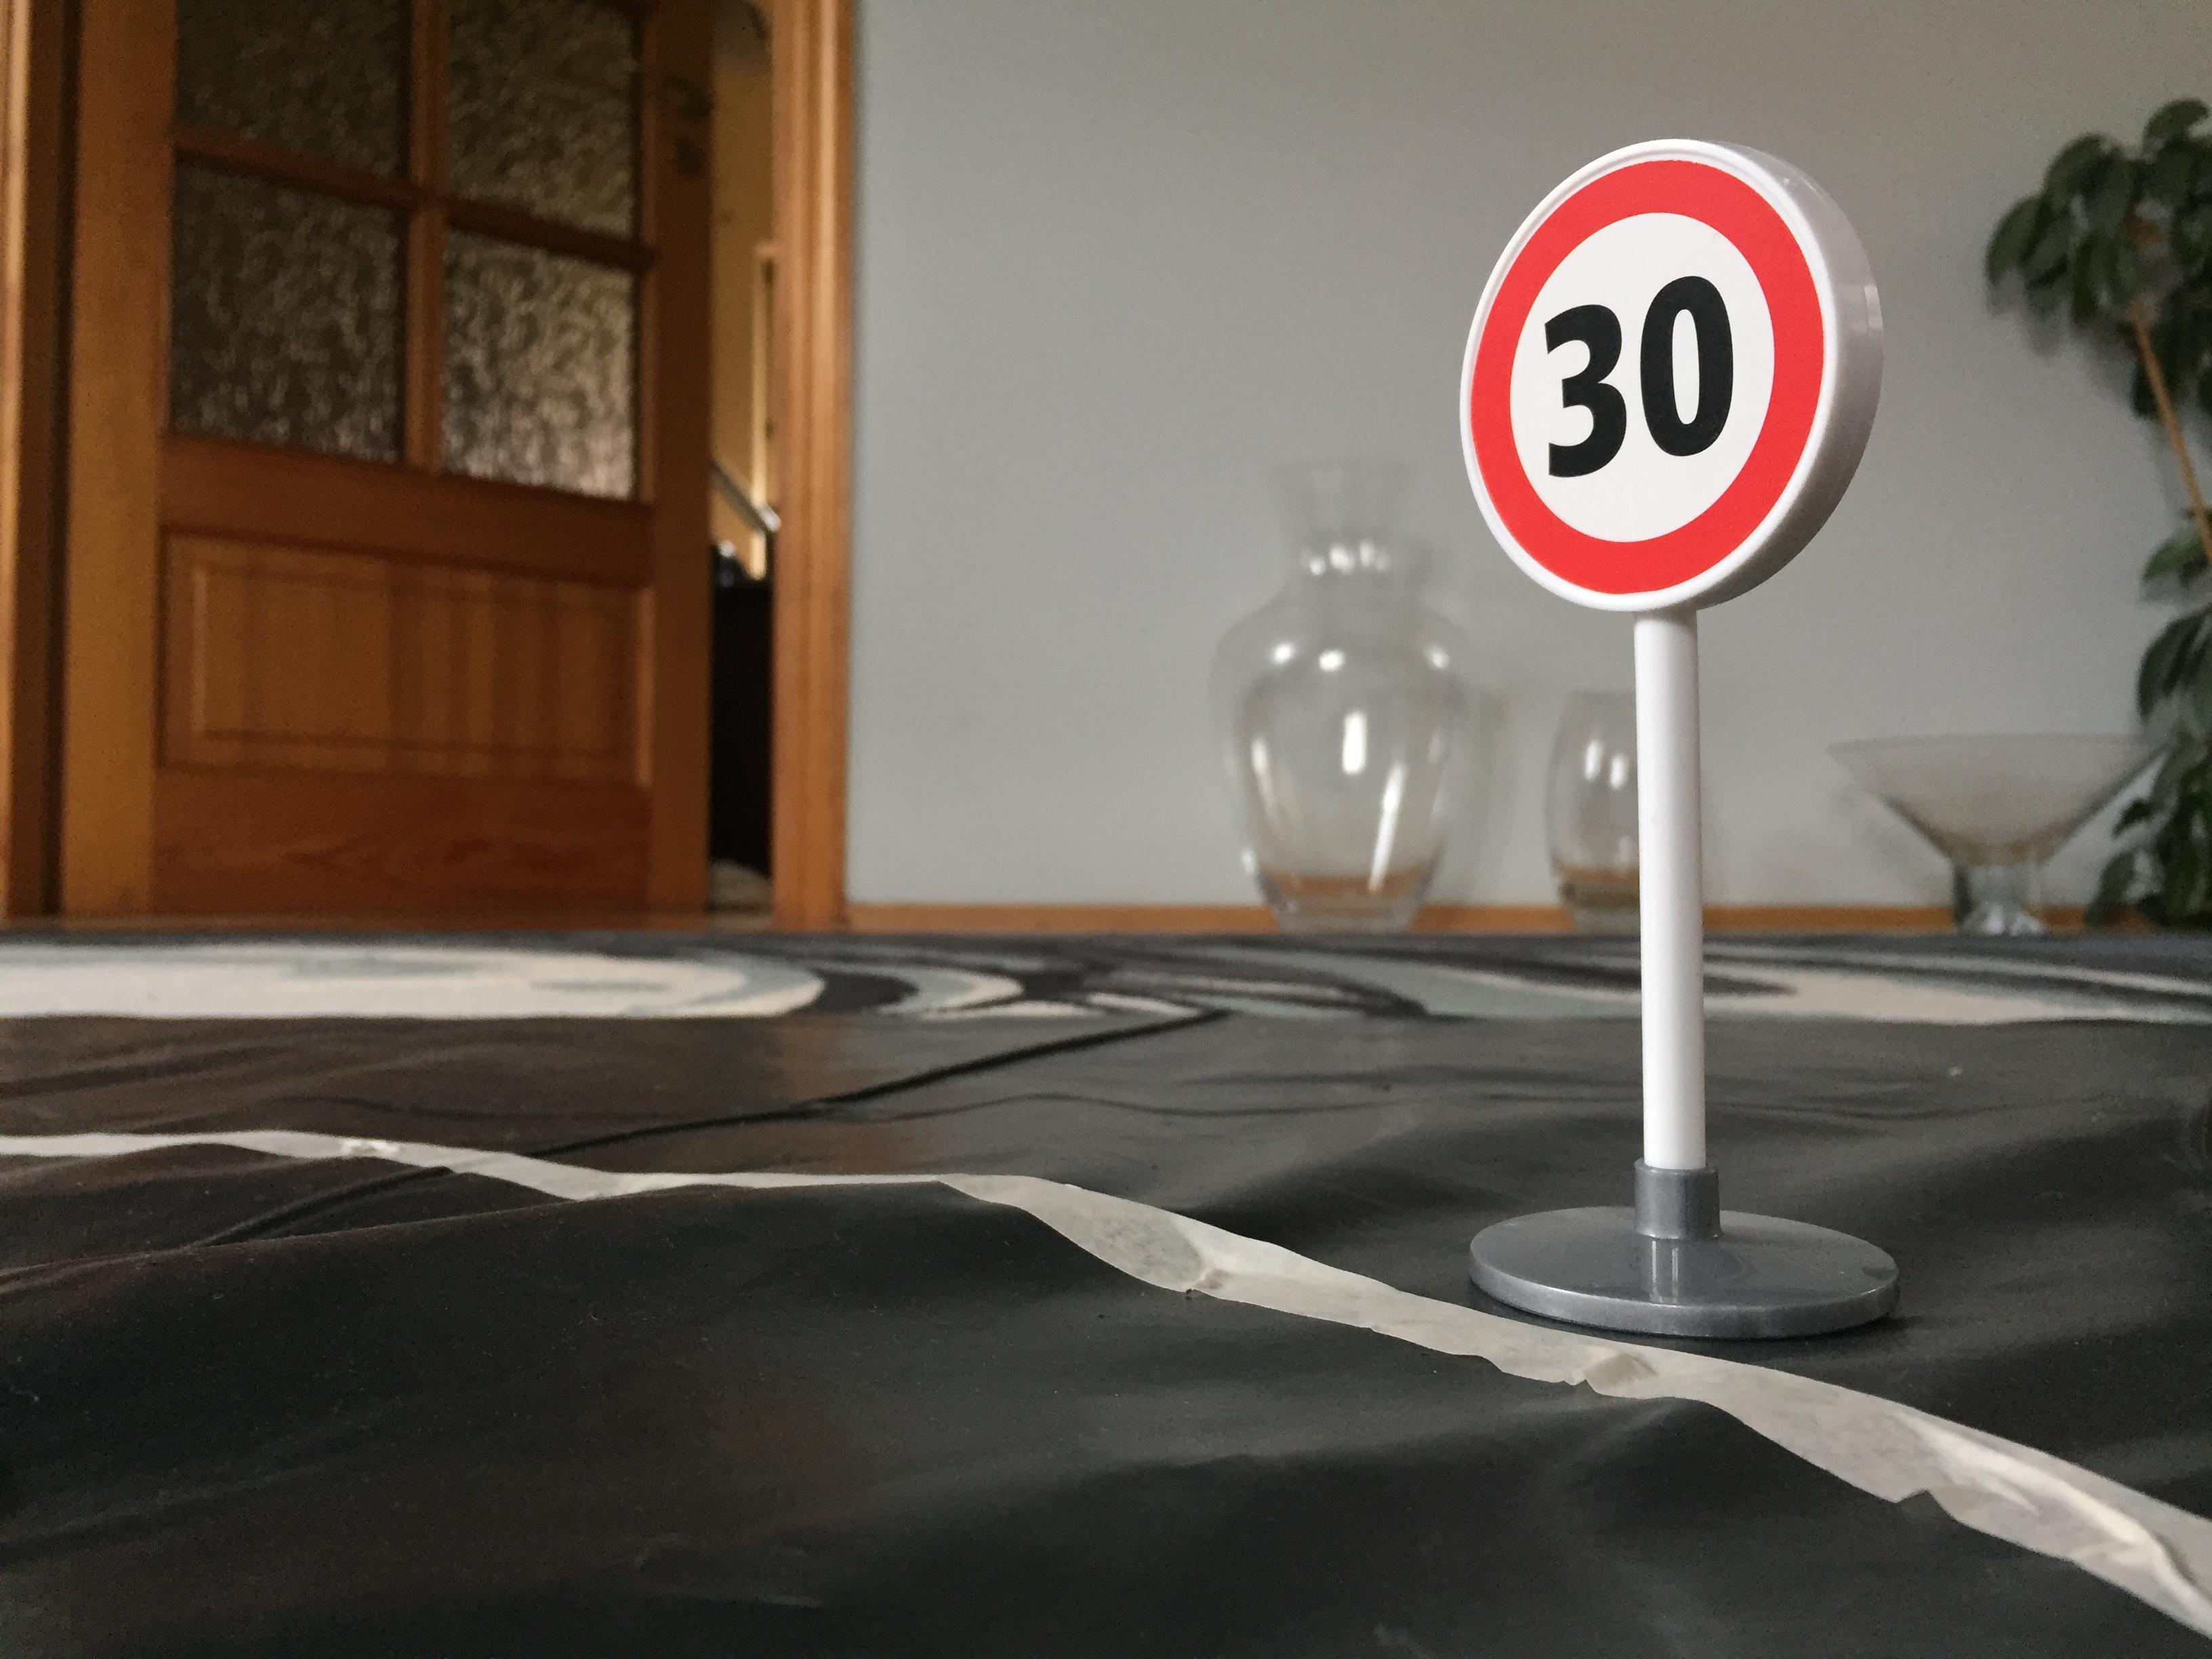speed: (1449, 132, 1907, 634)
